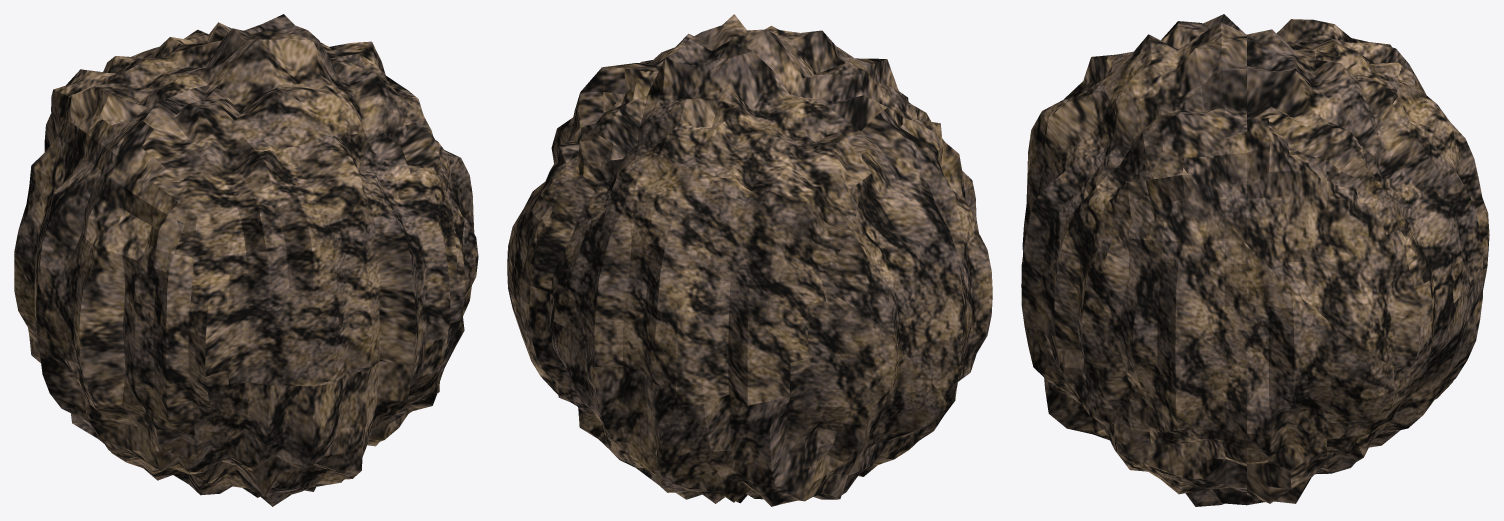
Rendered from asteroid8.obj.
The picture shows the model from 3 angles, left to right: view 1: azimuth 30°, elevation 25°; view 2: azimuth 150°, elevation 25°; view 3: azimuth 270°, elevation 25°; orthographic projection. The views are drawn at different scales.
Visible parts, largest first — view 1: Cube_Cube.002; view 2: Cube_Cube.002; view 3: Cube_Cube.002.
Part boxes in pixels (left/top/right/bottom): Cube_Cube.002: left=14, top=14, right=478, bottom=506; Cube_Cube.002: left=507, top=14, right=992, bottom=506; Cube_Cube.002: left=1021, top=14, right=1489, bottom=506.
Size of the model in its own units: 1.74 by 1.89 by 1.71.
